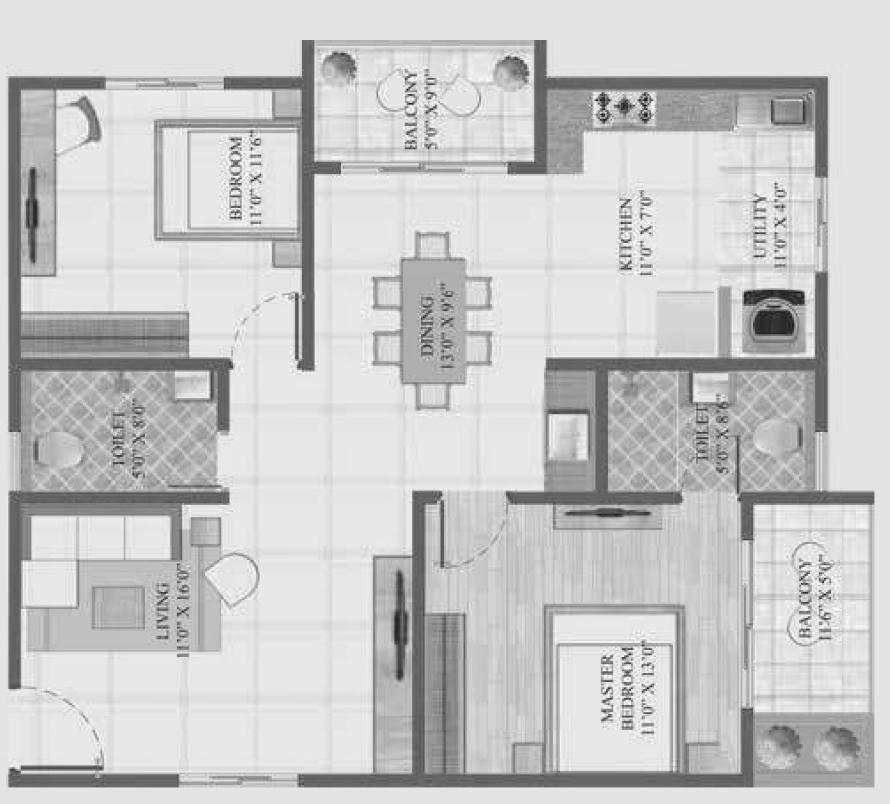Balcony: (746, 497, 873, 777), (308, 46, 540, 170)
Bed: (549, 608, 677, 777), (162, 127, 302, 236)
Bedroom: (420, 498, 748, 780), (17, 83, 304, 363)
Dining Room: (309, 171, 547, 498)
Dining table: (367, 228, 500, 424)
Kitchen: (546, 90, 727, 356)
Living Room: (12, 494, 421, 782)
Sofa: (19, 508, 179, 559), (18, 503, 79, 608)
Wardrobe: (421, 612, 467, 777), (18, 312, 186, 357)
commode: (754, 420, 803, 457), (39, 436, 80, 466)
door: (9, 687, 107, 772), (438, 494, 517, 574), (228, 293, 300, 368), (733, 539, 761, 707), (677, 429, 741, 500), (337, 158, 514, 182), (162, 432, 226, 484)
fridge: (660, 287, 716, 354)
kitchen-slab: (543, 91, 816, 129), (544, 89, 587, 173)
sink: (732, 90, 812, 127), (548, 410, 589, 467), (688, 370, 732, 407), (168, 371, 214, 402)
stove: (591, 93, 654, 126)
toilet: (607, 363, 822, 491), (20, 366, 220, 494)
tv: (14, 146, 51, 274), (380, 561, 412, 691), (554, 500, 669, 531)
utility: (726, 92, 819, 353)
washing-machine: (744, 290, 808, 353)
